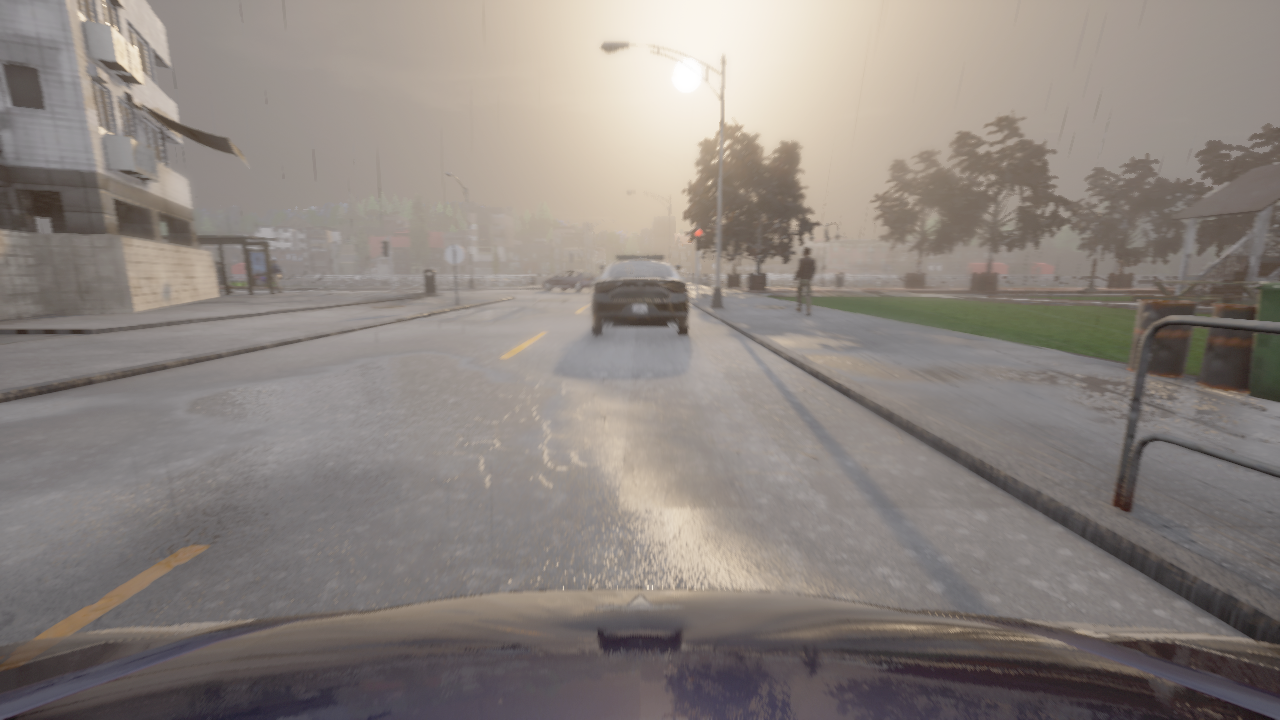cyclist: (0, 588, 1279, 719), (590, 253, 690, 335), (542, 270, 595, 292)
pedestrian: (794, 247, 816, 315), (271, 260, 282, 292), (219, 289, 232, 292)
